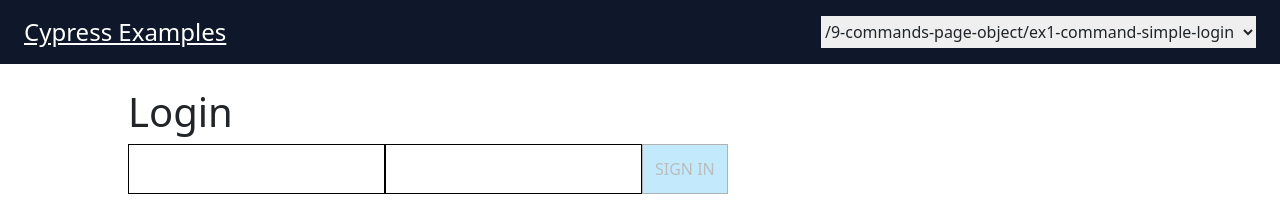
Test: Ex1 Command Simple Login › the SignIn button should be enabled if validation is successful
Type "mario" into the field named "username".
click(257, 169); type("mario")  # box [128,144,385,194]
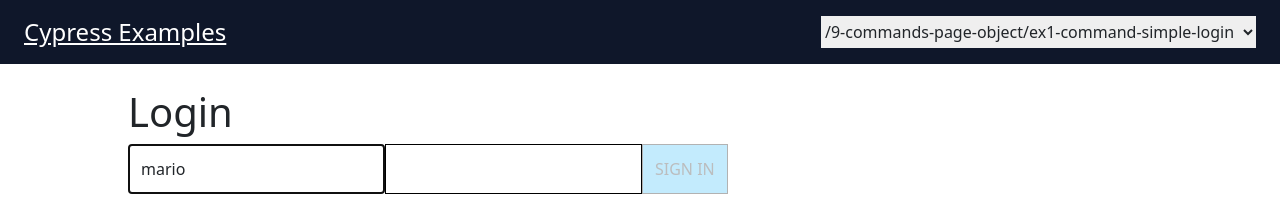
Type "12345" into the password field named "password".
click(514, 169); type("12345")  # box [385,144,642,194]
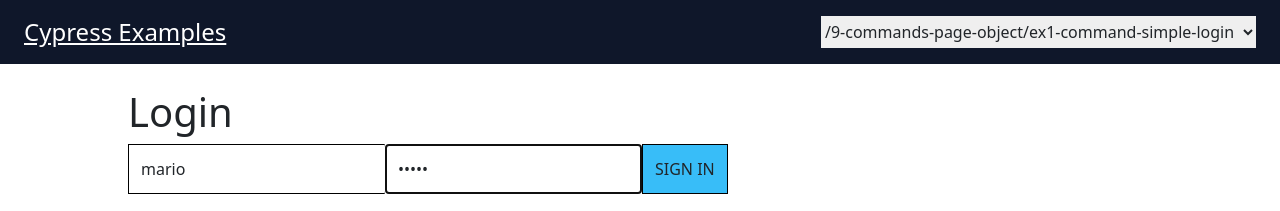
Expected: the button "SIGN IN" is enabled, [642,144,728,194]
